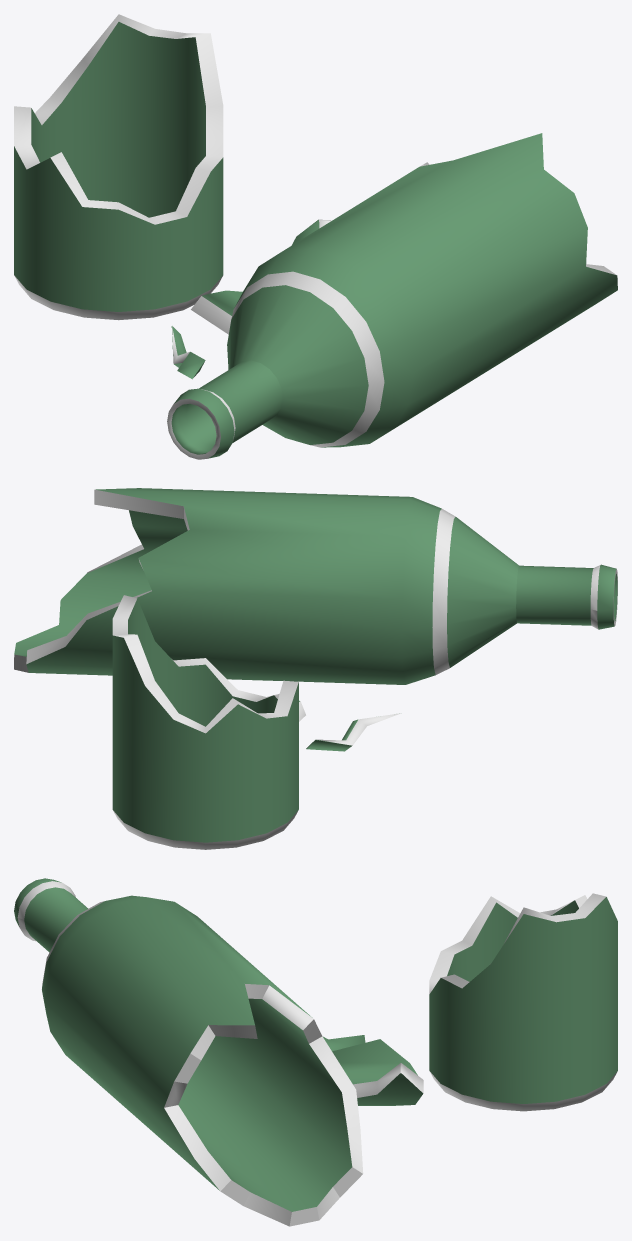
File: glass bottle.fbx
The picture shows the model from 3 angles, top to bottom: view 1: azimuth 30°, elevation 25°; view 2: azimuth 150°, elevation 25°; view 3: azimuth 270°, elevation 25°; orthographic projection. The views are drawn at different scales.
Parts seen in each view (by area): view 1: Glass bottle; view 2: Glass bottle; view 3: Glass bottle.
Part boxes in pixels (bbox=[...]): Glass bottle: bbox=[14, 14, 617, 459]; Glass bottle: bbox=[14, 488, 617, 849]; Glass bottle: bbox=[14, 878, 617, 1226].
Size of the model in its own units: 72.01 by 28.19 by 76.27.
